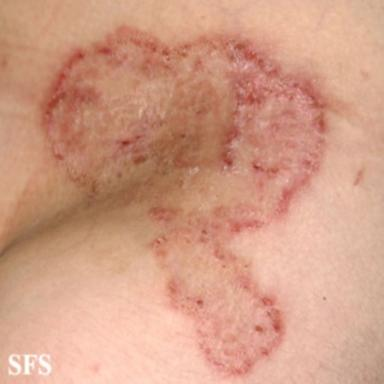Tinea-Corporis: (41, 27, 327, 374)
